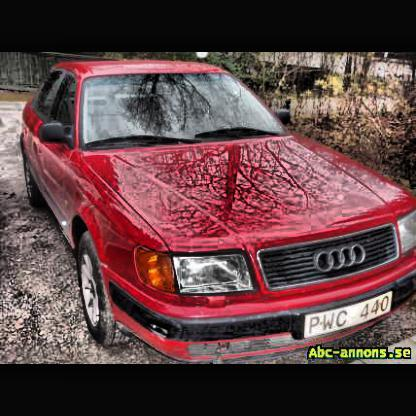Audi 100 Sedan 1994: (20, 62, 416, 364)
